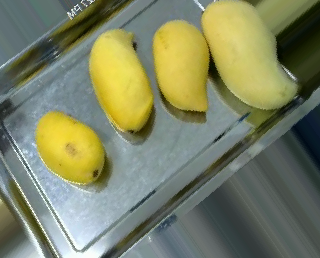Mango: (197, 0, 301, 111), (84, 28, 156, 135), (153, 9, 212, 121), (34, 108, 111, 187)
